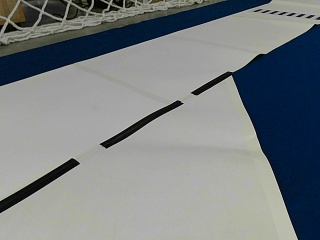crosswalk: (254, 7, 318, 20)
